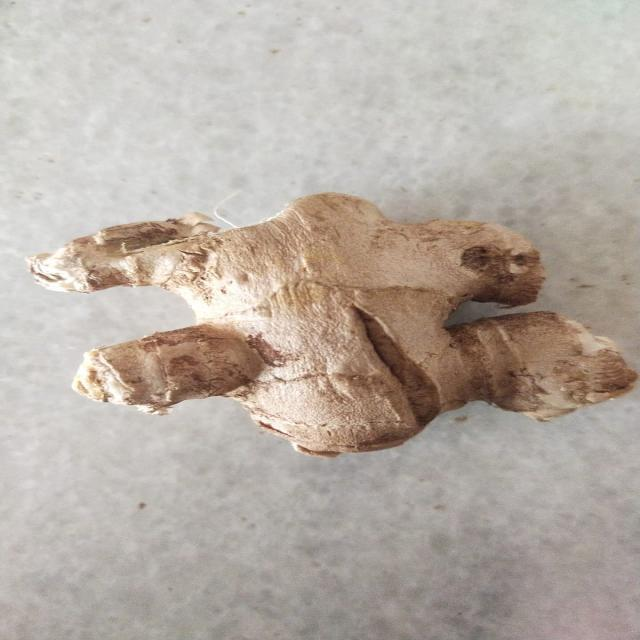ginger: (51, 200, 628, 460)
